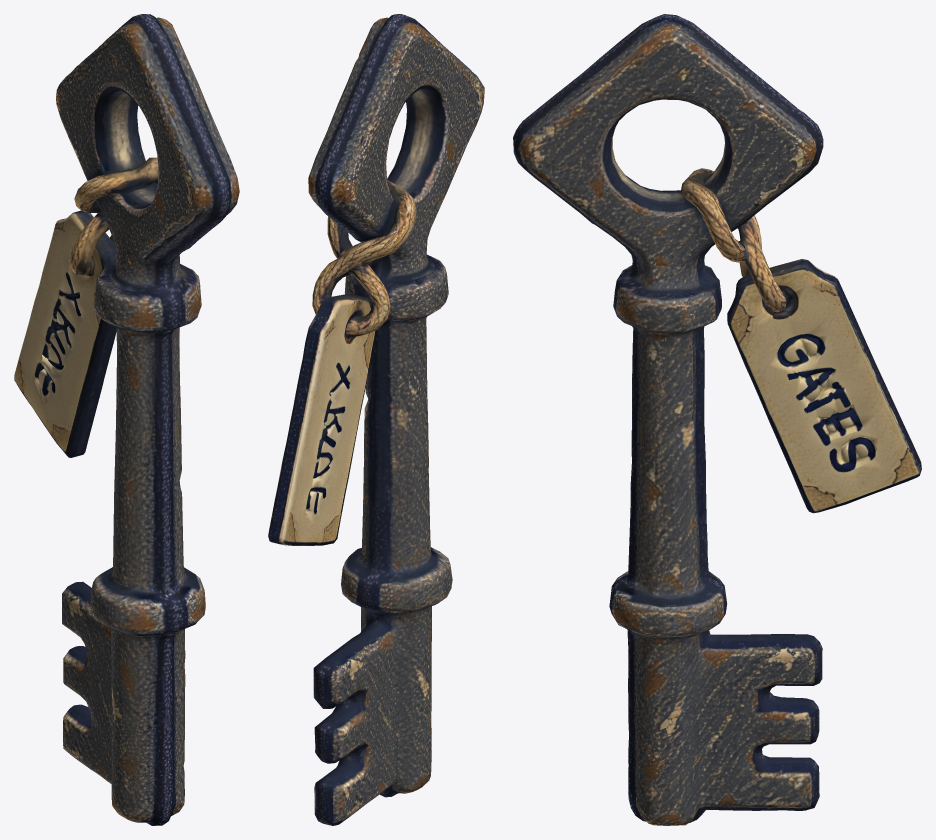
File: KeyGates.fbx
3 views of the same model, side by side, from view 1: azimuth 30°, elevation 25°; view 2: azimuth 150°, elevation 25°; view 3: azimuth 270°, elevation 25° (orthographic). The views are drawn at different scales.
Parts seen in each view (by area): view 1: tripo_node_6cfcae27-1995-49fb-ba67-d6b347ad3318; view 2: tripo_node_6cfcae27-1995-49fb-ba67-d6b347ad3318; view 3: tripo_node_6cfcae27-1995-49fb-ba67-d6b347ad3318.
Part boxes in pixels (<box>): tripo_node_6cfcae27-1995-49fb-ba67-d6b347ad3318: <box>14,14,239,825</box>; tripo_node_6cfcae27-1995-49fb-ba67-d6b347ad3318: <box>268,14,484,825</box>; tripo_node_6cfcae27-1995-49fb-ba67-d6b347ad3318: <box>513,14,921,825</box>.
Bounding box in the file's own units: 12.83 × 100 × 45.83.
Materials: 1 (1 with a texture image).
